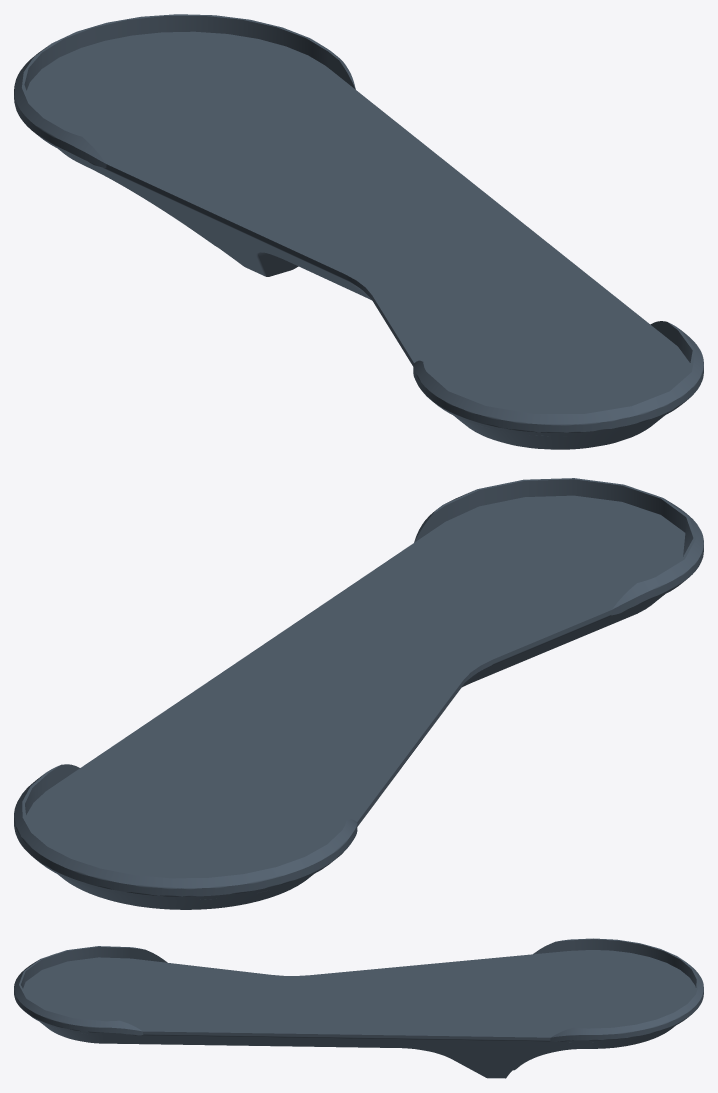
The model's file is hr_hipy_8.obj.
3 renders of one model, top to bottom at view 1: azimuth 30°, elevation 25°; view 2: azimuth 150°, elevation 25°; view 3: azimuth 270°, elevation 25°, orthographic. The views are drawn at different scales.
Bounding box in the file's own units: 0.115 × 0.0495 × 0.356.
